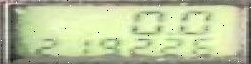-: (162, 27, 175, 35)
0: (175, 8, 210, 34), (127, 8, 162, 34)
1: (76, 36, 89, 53)
2: (30, 37, 56, 55), (127, 36, 150, 56), (157, 36, 180, 55)
6: (187, 35, 213, 55)
9: (96, 36, 119, 55)
